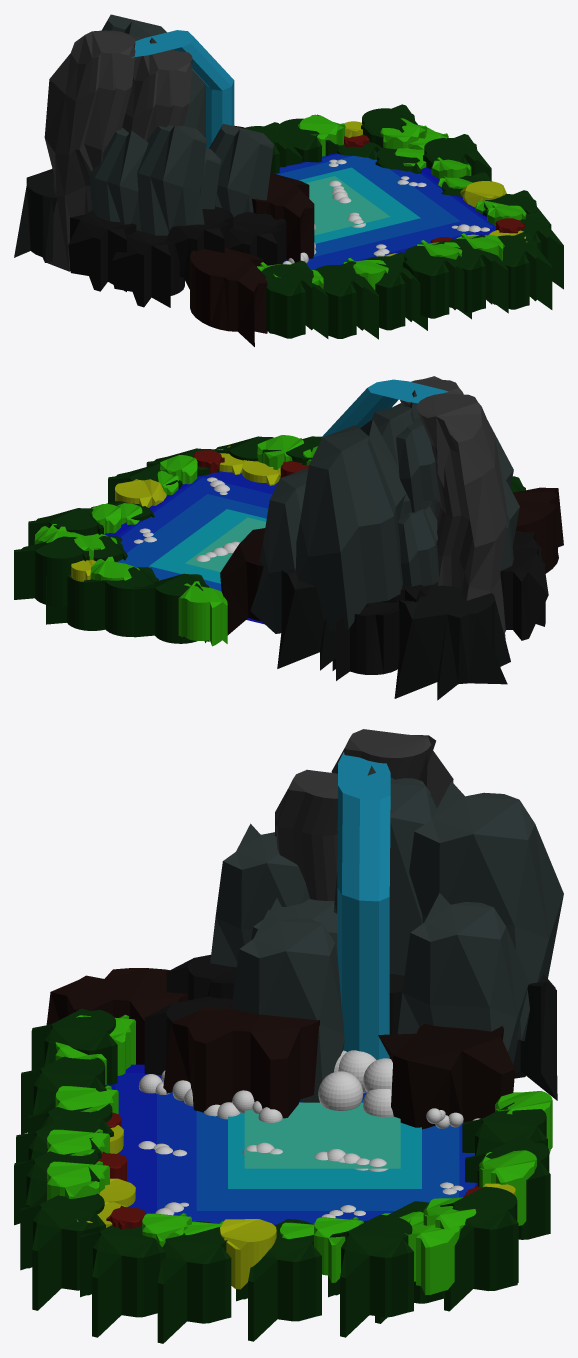
The model's file is waterfall.obj.
3 renders of one model, top to bottom at view 1: azimuth 30°, elevation 25°; view 2: azimuth 150°, elevation 25°; view 3: azimuth 270°, elevation 25°, orthographic. The views are drawn at different scales.
Size of the model in its own units: 18.1 by 10.15 by 13.98.
